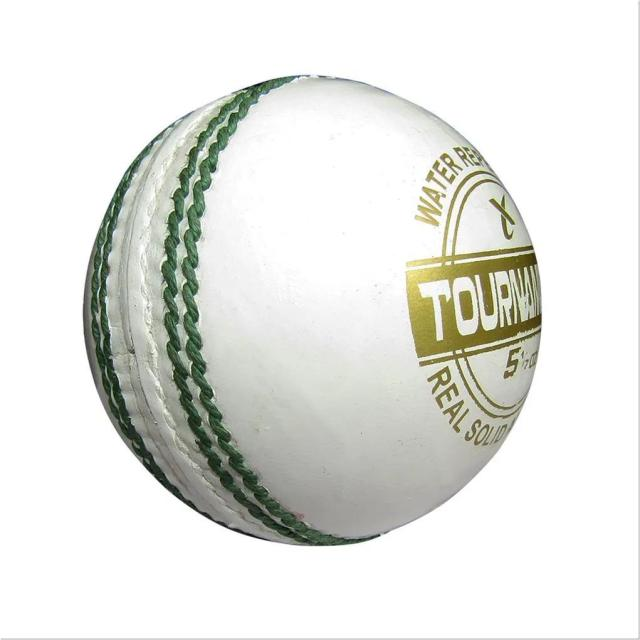ball: (73, 72, 551, 548)
